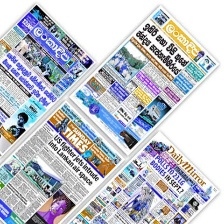book: (66, 3, 222, 158), (0, 0, 98, 162), (0, 98, 125, 223), (63, 130, 223, 223)
